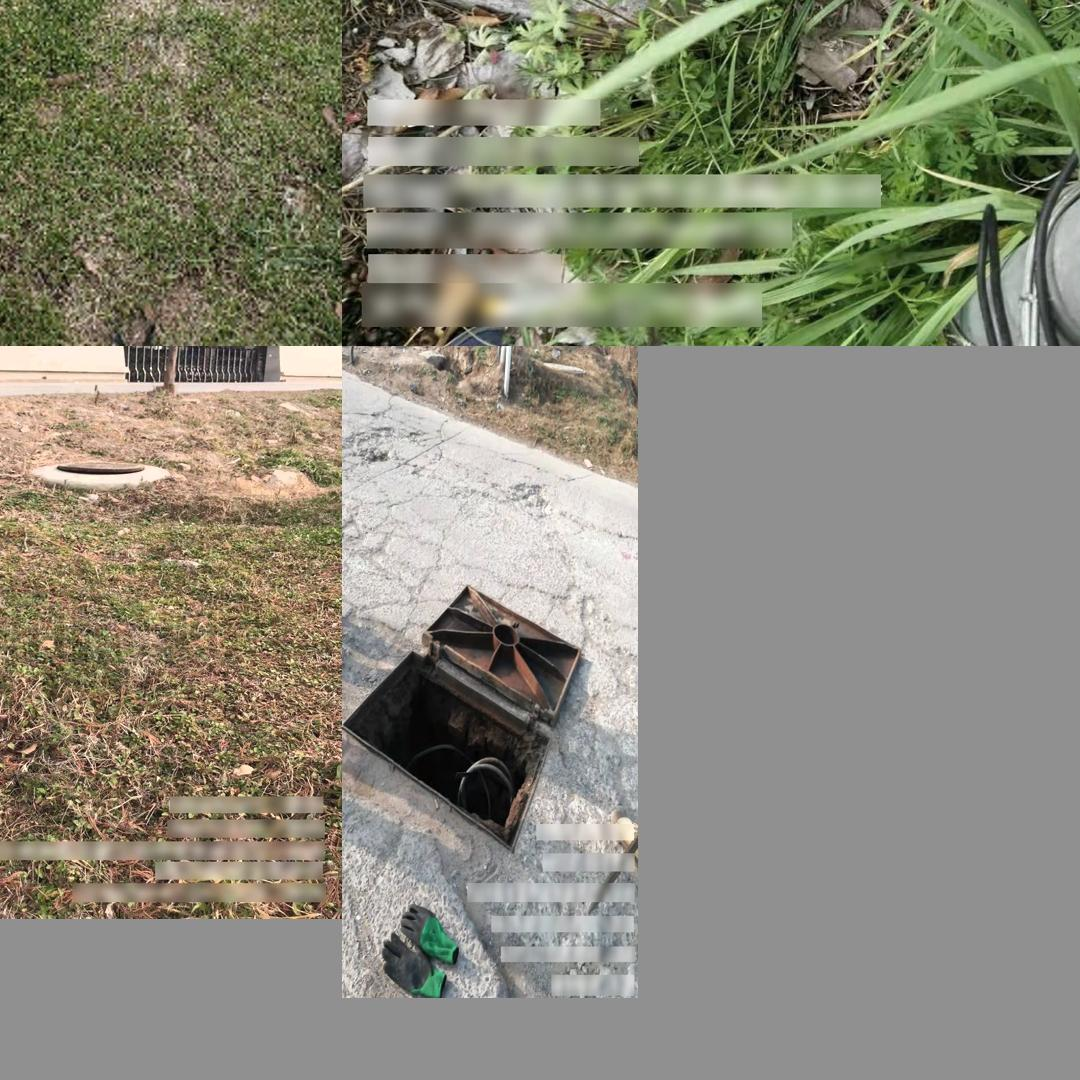uncovered: (342, 587, 576, 854), (343, 0, 921, 25), (57, 462, 145, 476)
